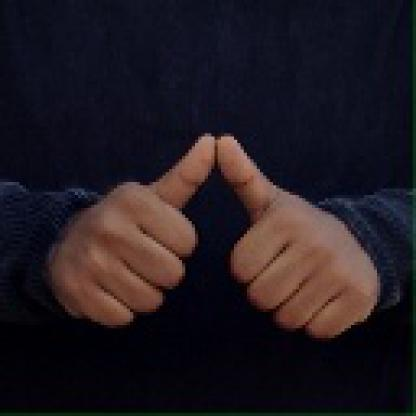A: (46, 122, 380, 354)
